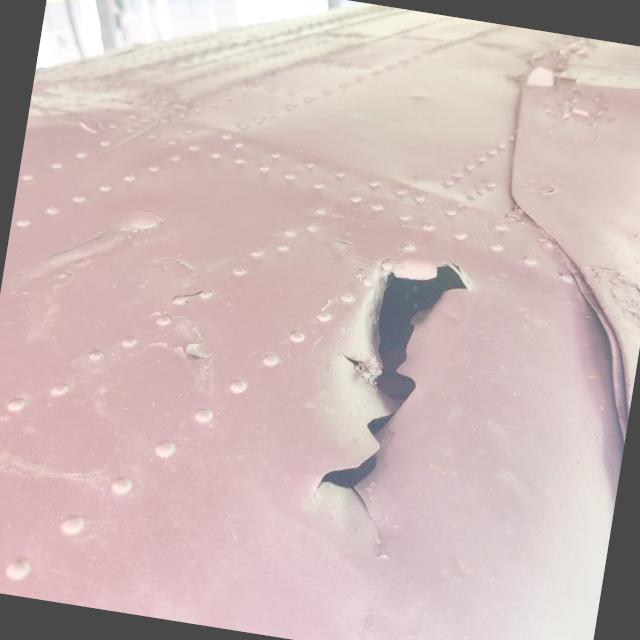crack: (284, 230, 491, 560)
paint-off: (134, 270, 237, 380)
